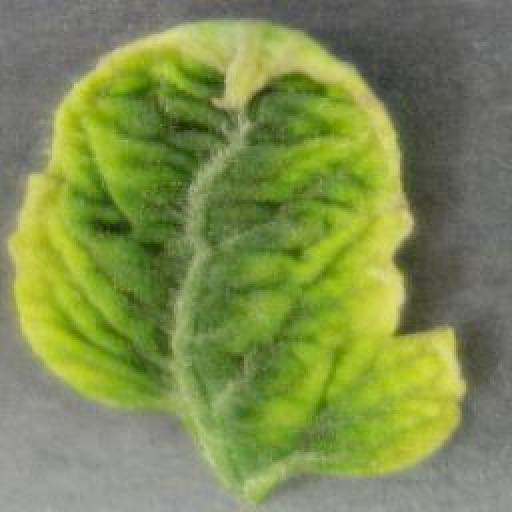disease_tomato: (12, 14, 470, 502)
